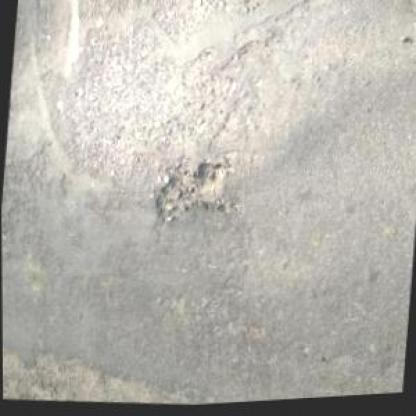pothole: (148, 151, 229, 226)
